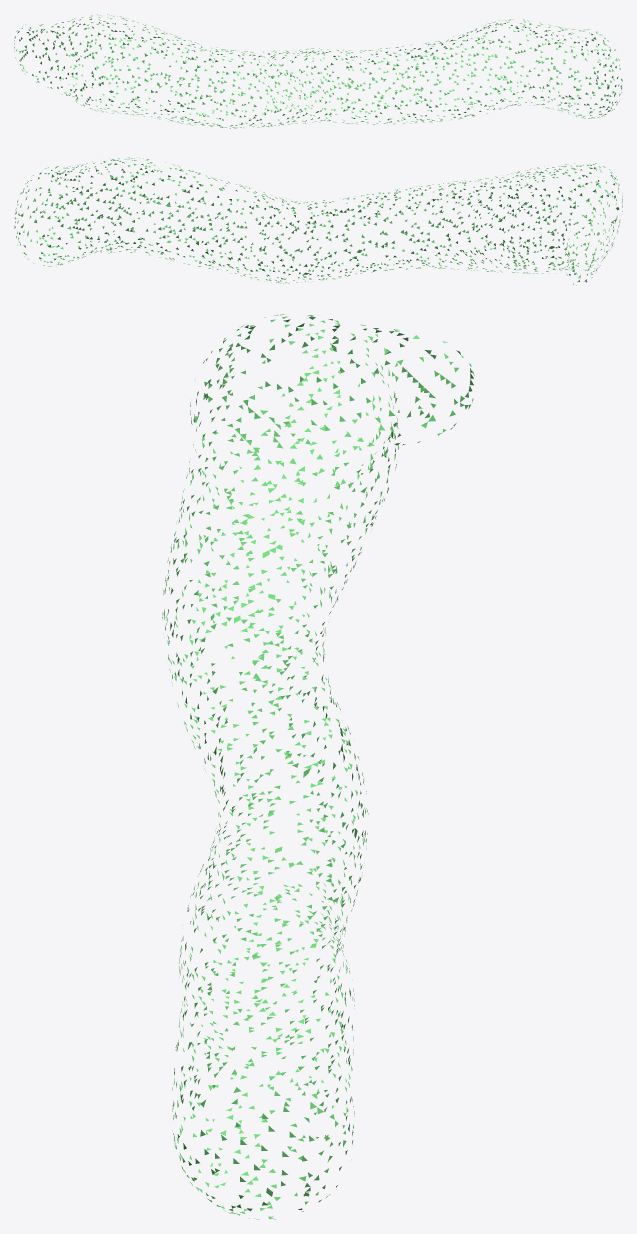
The model's file is morph_018.glb.
The picture shows the model from 3 angles, top to bottom: view 1: azimuth 30°, elevation 25°; view 2: azimuth 150°, elevation 25°; view 3: azimuth 270°, elevation 25°; orthographic projection. The views are drawn at different scales.
Size of the model in its own units: 133 by 48.41 by 32.88.
